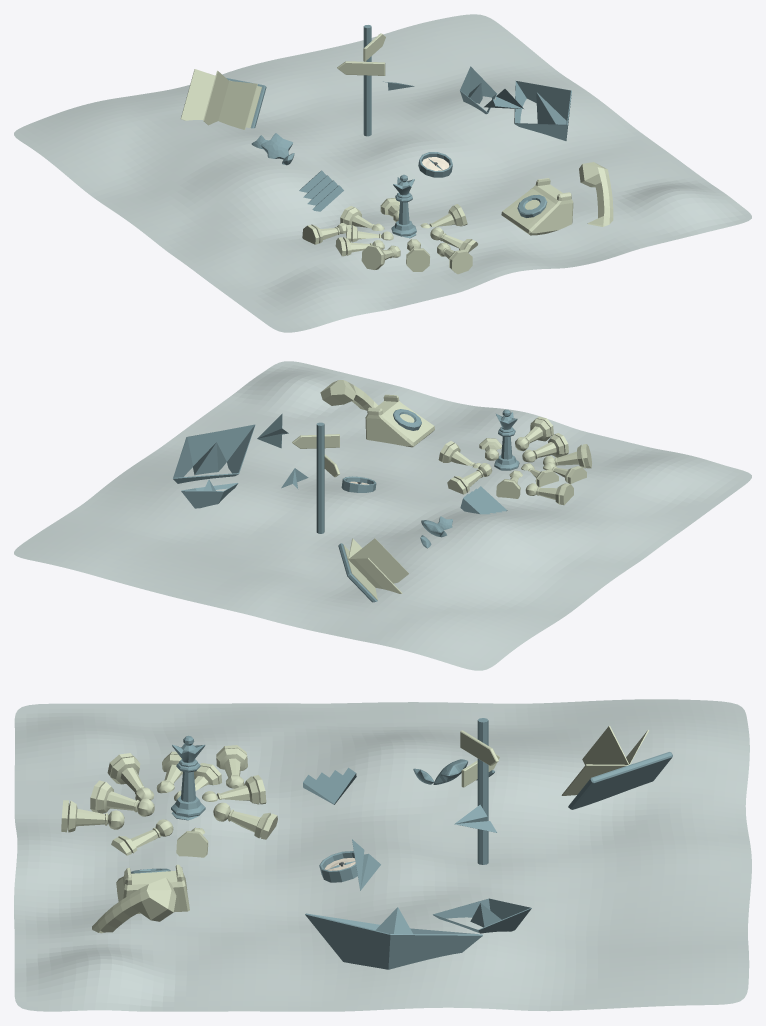
3 views of the same model, one above another, from view 1: azimuth 30°, elevation 25°; view 2: azimuth 150°, elevation 25°; view 3: azimuth 270°, elevation 25° (orthographic). The views are drawn at different scales.
Visible parts, largest first — view 1: level2_ground.001, Cube.023, PaperBoat.003, Cube.041, Cube.040, stairs.002, Cylinder.035, PaperBoat.004, Cylinder.036, Cylinder.039, Cylinder.028, Cylinder.026 (+4 smaller); view 2: level2_ground.001, PaperBoat.003, Cube.023, Cube.041, Cube.040, Cylinder.036, Cylinder.035, PaperBoat.004, stairs.002, Cylinder.027, Cylinder.026, Cylinder.028 (+5 smaller); view 3: level2_ground.001, PaperBoat.003, Cube.040, Cube.022, PaperBoat.004, Cube.023, Cylinder.035, Cube.041, Cylinder.036, Cylinder.027, Cylinder.026, Cylinder.028 (+12 smaller).
Part boxes in pixels (x1,y1,x2,y2): level2_ground.001: [14, 14, 751, 332]; Cube.023: [181, 69, 261, 129]; PaperBoat.003: [514, 81, 571, 140]; Cube.041: [501, 178, 573, 235]; Cube.040: [579, 162, 613, 226]; stairs.002: [299, 170, 343, 211]; Cylinder.035: [391, 174, 416, 238]; PaperBoat.004: [460, 66, 496, 114]; Cylinder.036: [363, 25, 371, 136]; Cylinder.039: [418, 152, 452, 177]; Cylinder.028: [361, 245, 400, 269]; Cylinder.026: [437, 242, 472, 274]; level2_ground.001: [14, 361, 751, 670]; PaperBoat.003: [173, 424, 255, 483]; Cube.023: [343, 538, 408, 600]; Cube.041: [365, 394, 434, 447]; Cube.040: [320, 380, 377, 410]; Cylinder.036: [316, 422, 324, 533]; Cylinder.035: [494, 409, 519, 470]; PaperBoat.004: [181, 479, 238, 508]; stairs.002: [460, 486, 507, 514]; Cylinder.027: [522, 433, 568, 462]; Cylinder.026: [515, 416, 553, 451]; Cylinder.028: [543, 444, 591, 468]; level2_ground.001: [14, 699, 751, 1011]; PaperBoat.003: [305, 907, 482, 969]; Cube.040: [92, 877, 176, 933]; Cube.022: [568, 752, 672, 809]; PaperBoat.004: [433, 898, 531, 933]; Cube.023: [561, 726, 648, 795]; Cylinder.035: [171, 735, 205, 820]; Cube.041: [116, 864, 189, 913]; Cylinder.036: [477, 718, 488, 864]; Cylinder.027: [90, 780, 154, 816]; Cylinder.026: [61, 800, 124, 832]; Cylinder.028: [107, 753, 154, 800].
Size of the model in its own units: 5203 by 1440 by 5269.
